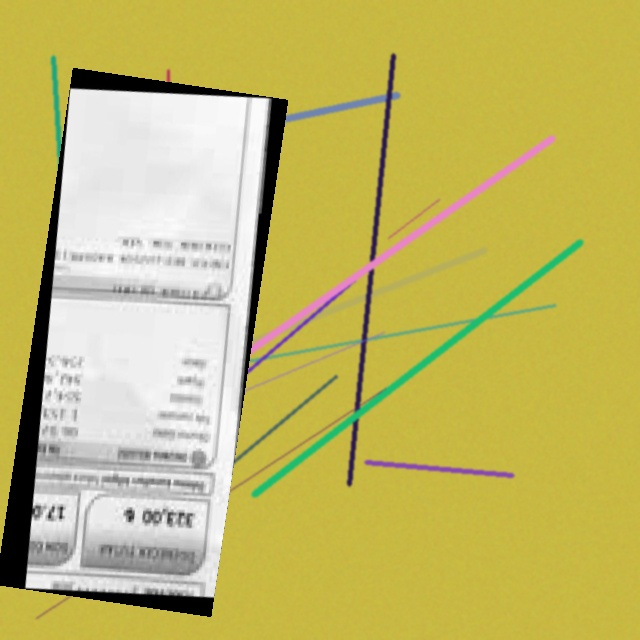electricity-bill: (0, 68, 288, 616)
